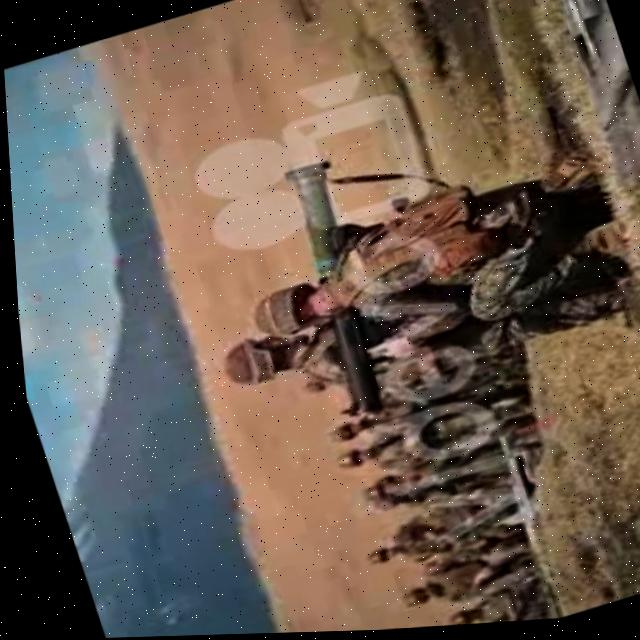rocket: (259, 155, 411, 429)
